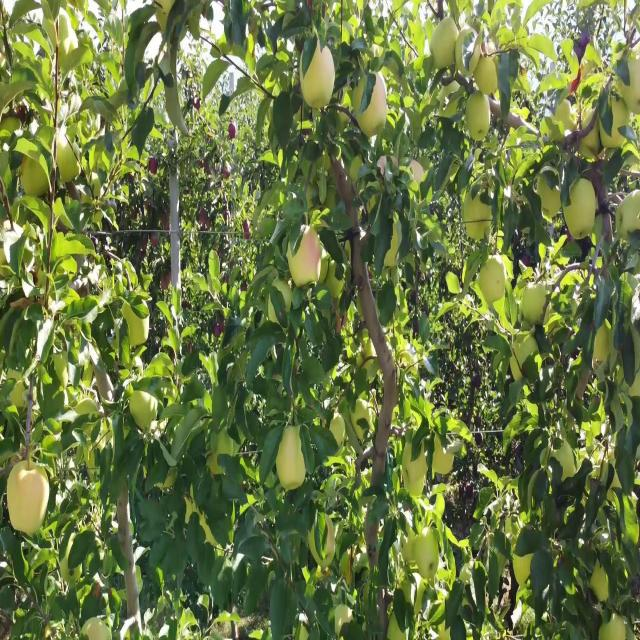apple: (8, 462, 49, 539), (300, 42, 336, 112), (288, 227, 328, 290), (276, 426, 307, 491), (568, 177, 599, 242), (356, 78, 388, 140), (480, 255, 512, 308), (600, 99, 631, 153), (472, 49, 500, 98), (336, 156, 364, 204), (432, 21, 457, 71), (128, 391, 158, 432), (56, 135, 80, 183), (24, 156, 49, 199), (468, 99, 492, 142), (556, 99, 580, 139), (268, 284, 292, 320), (580, 127, 603, 164), (432, 440, 455, 476), (60, 149, 81, 185), (384, 227, 400, 270), (540, 191, 563, 220), (8, 376, 27, 411), (328, 263, 345, 300), (592, 568, 609, 604), (596, 327, 612, 364), (128, 319, 148, 347), (296, 106, 313, 133), (364, 334, 376, 361), (612, 618, 627, 639), (208, 455, 223, 476), (492, 92, 502, 119), (628, 376, 640, 398), (152, 156, 160, 178), (244, 220, 252, 242), (228, 120, 236, 142), (88, 447, 96, 469), (200, 213, 209, 228), (164, 277, 172, 292)
